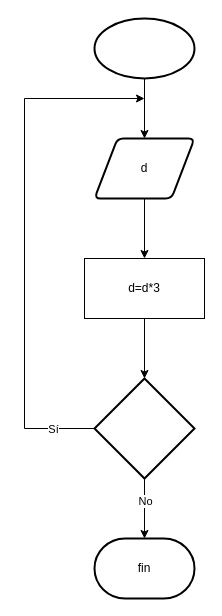
Image size: 222x616. Some labels were removed from this diagram. The shapes that lost their labels are listed below. From the top down, each one's box as (x1, y1, x2, y2) in pixels, then its label:
(93, 17, 195, 79): inicio
(93, 377, 195, 479): ¿d%2 != 0?
